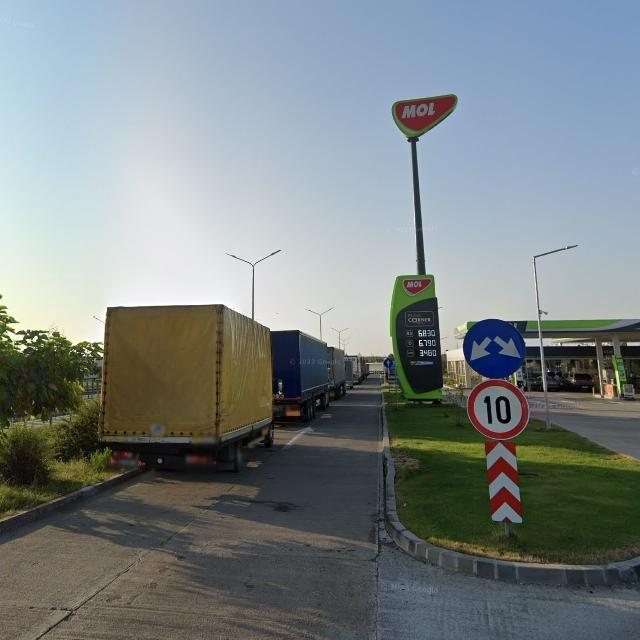forb_speed_over_10: (467, 381, 531, 441)
